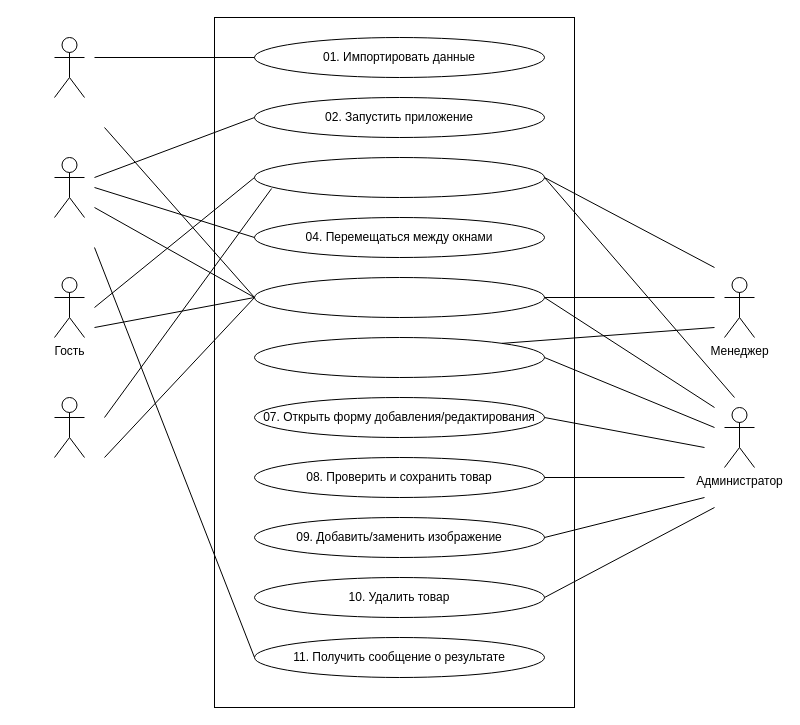
Some shapes in this 800 by 725 pixel diagram are drawn without their labels. The centre of each missing label's shape, as x and y in pixels:
03. Войти или гостевой режим: (x=399, y=177)
05. Просматривать каталог: (x=399, y=297)
06. Искать, фильтровать и сортировать: (x=399, y=357)
Клиент: (x=69, y=427)
Оператор загрузки: (x=69, y=67)
Пользователь: (x=69, y=187)
